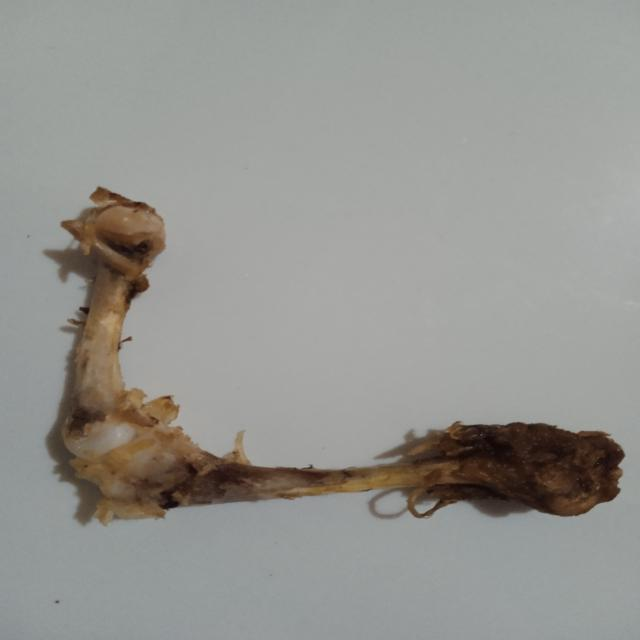bone: (58, 183, 629, 522)
